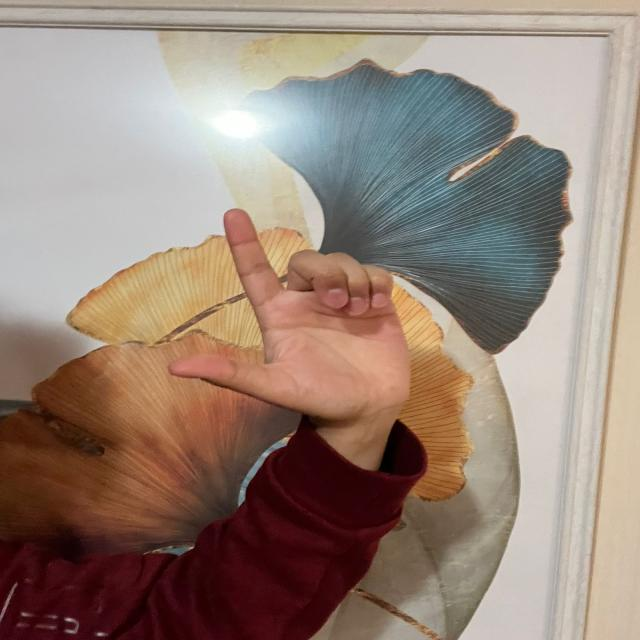L: (161, 206, 415, 422)
